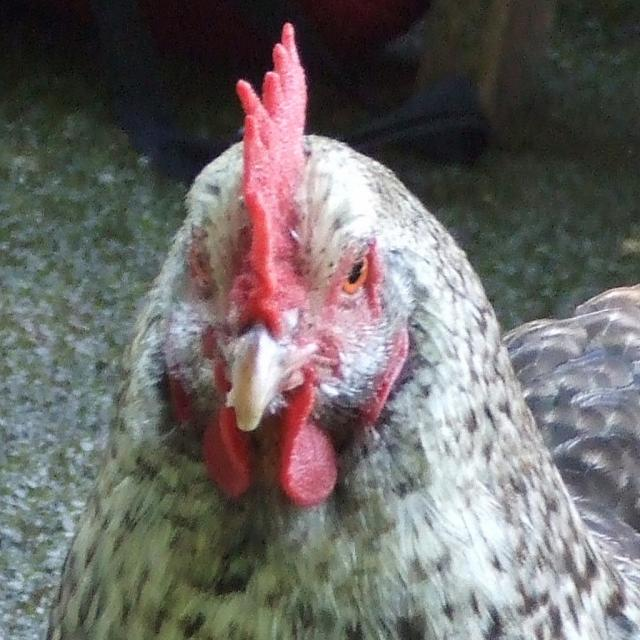Chicken: (48, 22, 639, 640)
